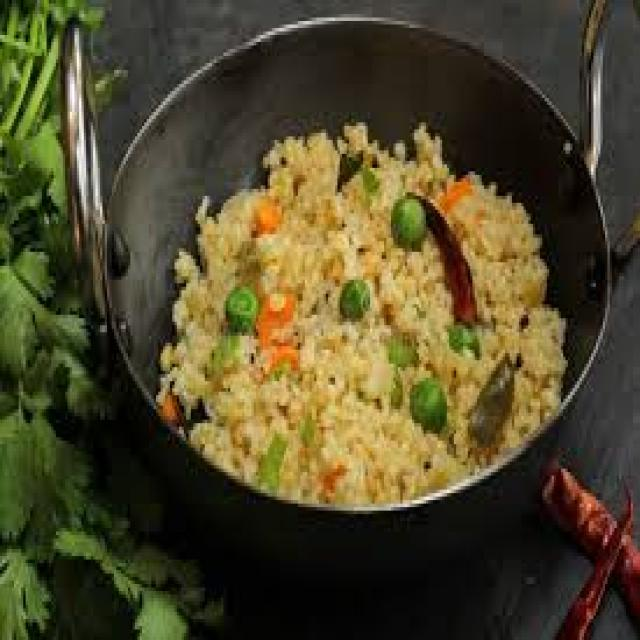UPMA: (151, 122, 566, 497)
